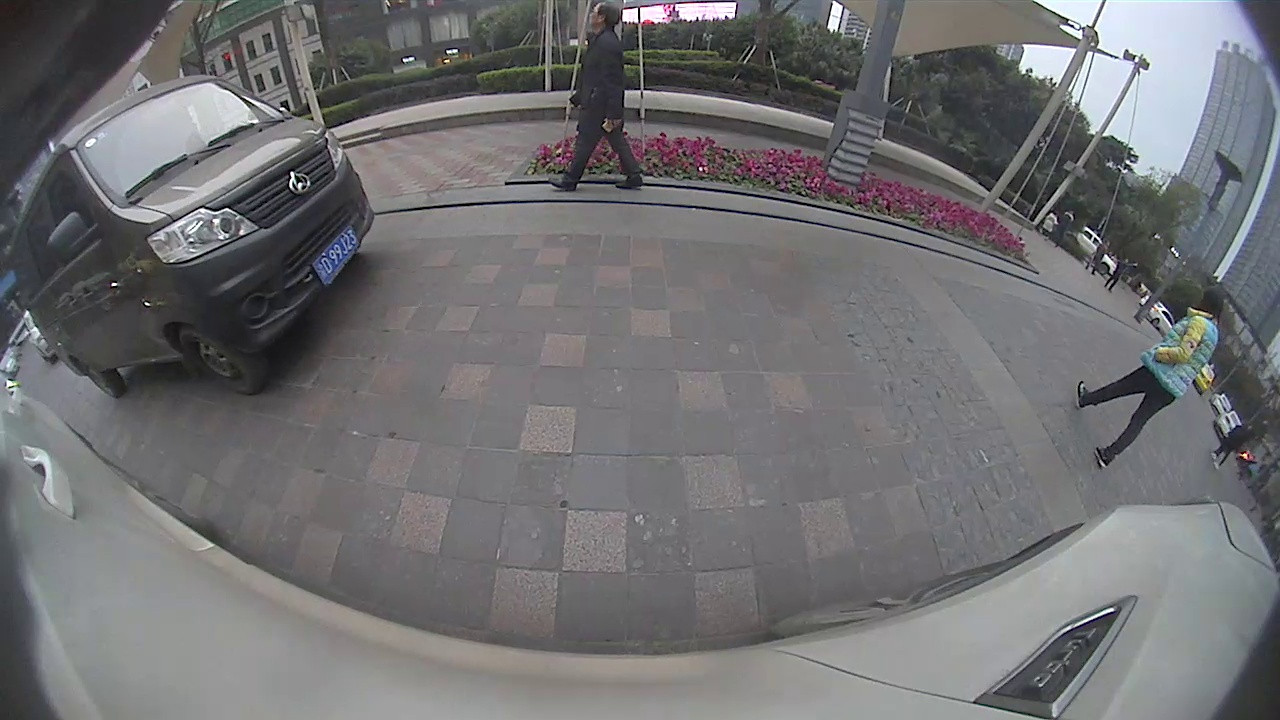car: (7, 73, 376, 400)
front: (188, 329, 261, 398)
person: (1091, 282, 1226, 471), (586, 2, 643, 190)
rear: (85, 361, 128, 398)
